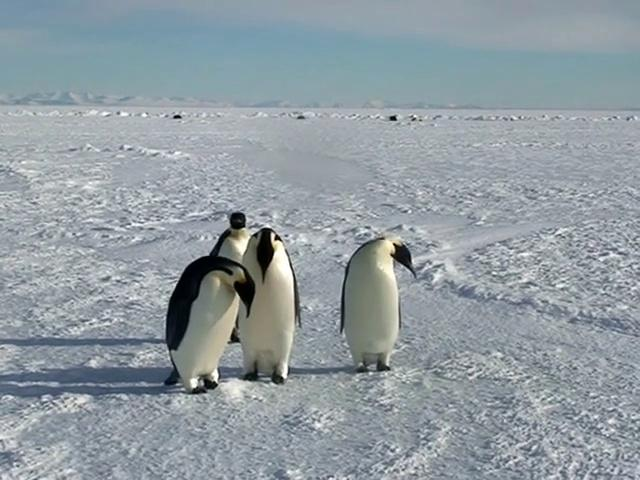animal: (342, 236, 413, 368)
